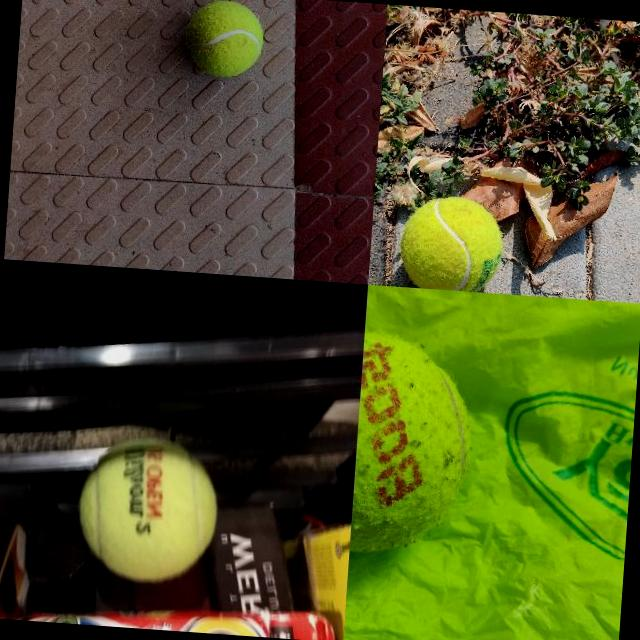Tennis Ball: (350, 330, 479, 558), (73, 432, 224, 588), (396, 192, 506, 292), (183, 0, 265, 78)
